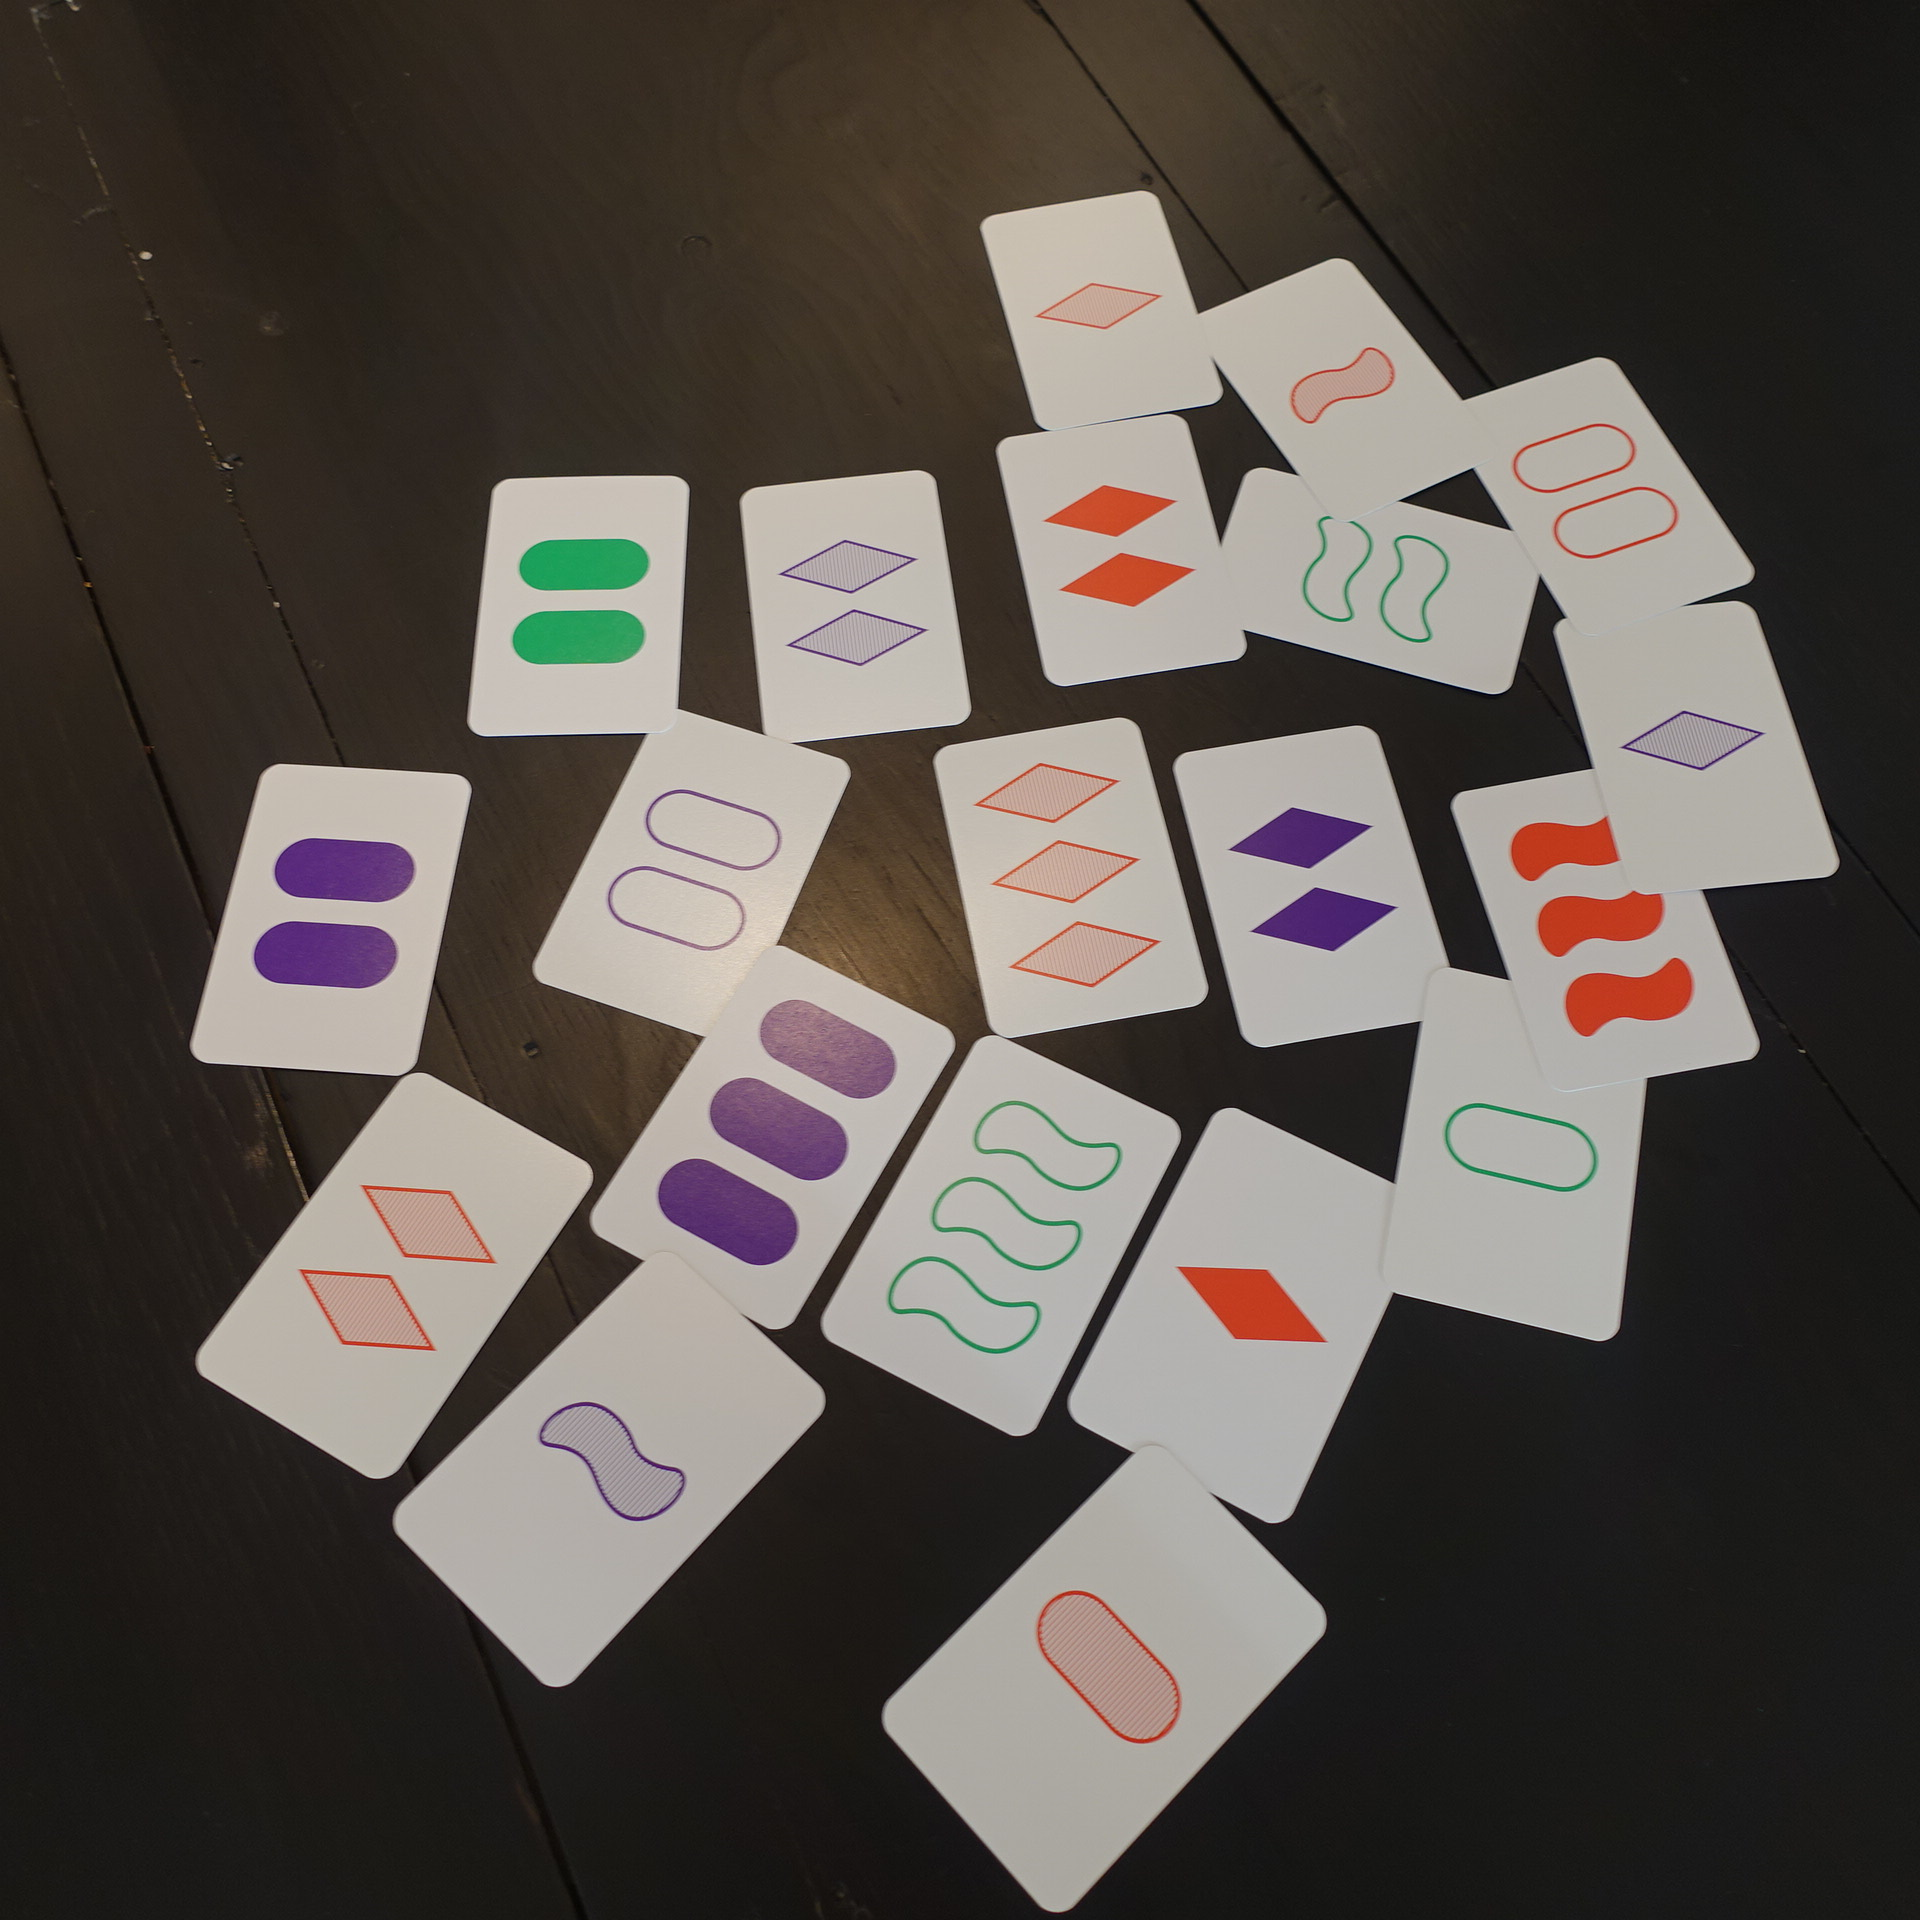c-2-f-d-r: (867, 1438, 1340, 1915), (375, 1241, 833, 1698), (181, 1069, 601, 1486), (1051, 1099, 1438, 1533), (816, 1029, 1189, 1449), (580, 941, 964, 1340), (1363, 964, 1677, 1354), (1440, 753, 1771, 1106), (524, 703, 856, 1046), (1162, 714, 1472, 1058), (176, 747, 478, 1087), (920, 709, 1217, 1046), (1449, 348, 1765, 645), (1540, 594, 1848, 898), (1197, 461, 1558, 709), (1187, 251, 1503, 527), (983, 403, 1254, 696), (730, 452, 985, 754), (452, 461, 702, 751), (965, 183, 1231, 438)
